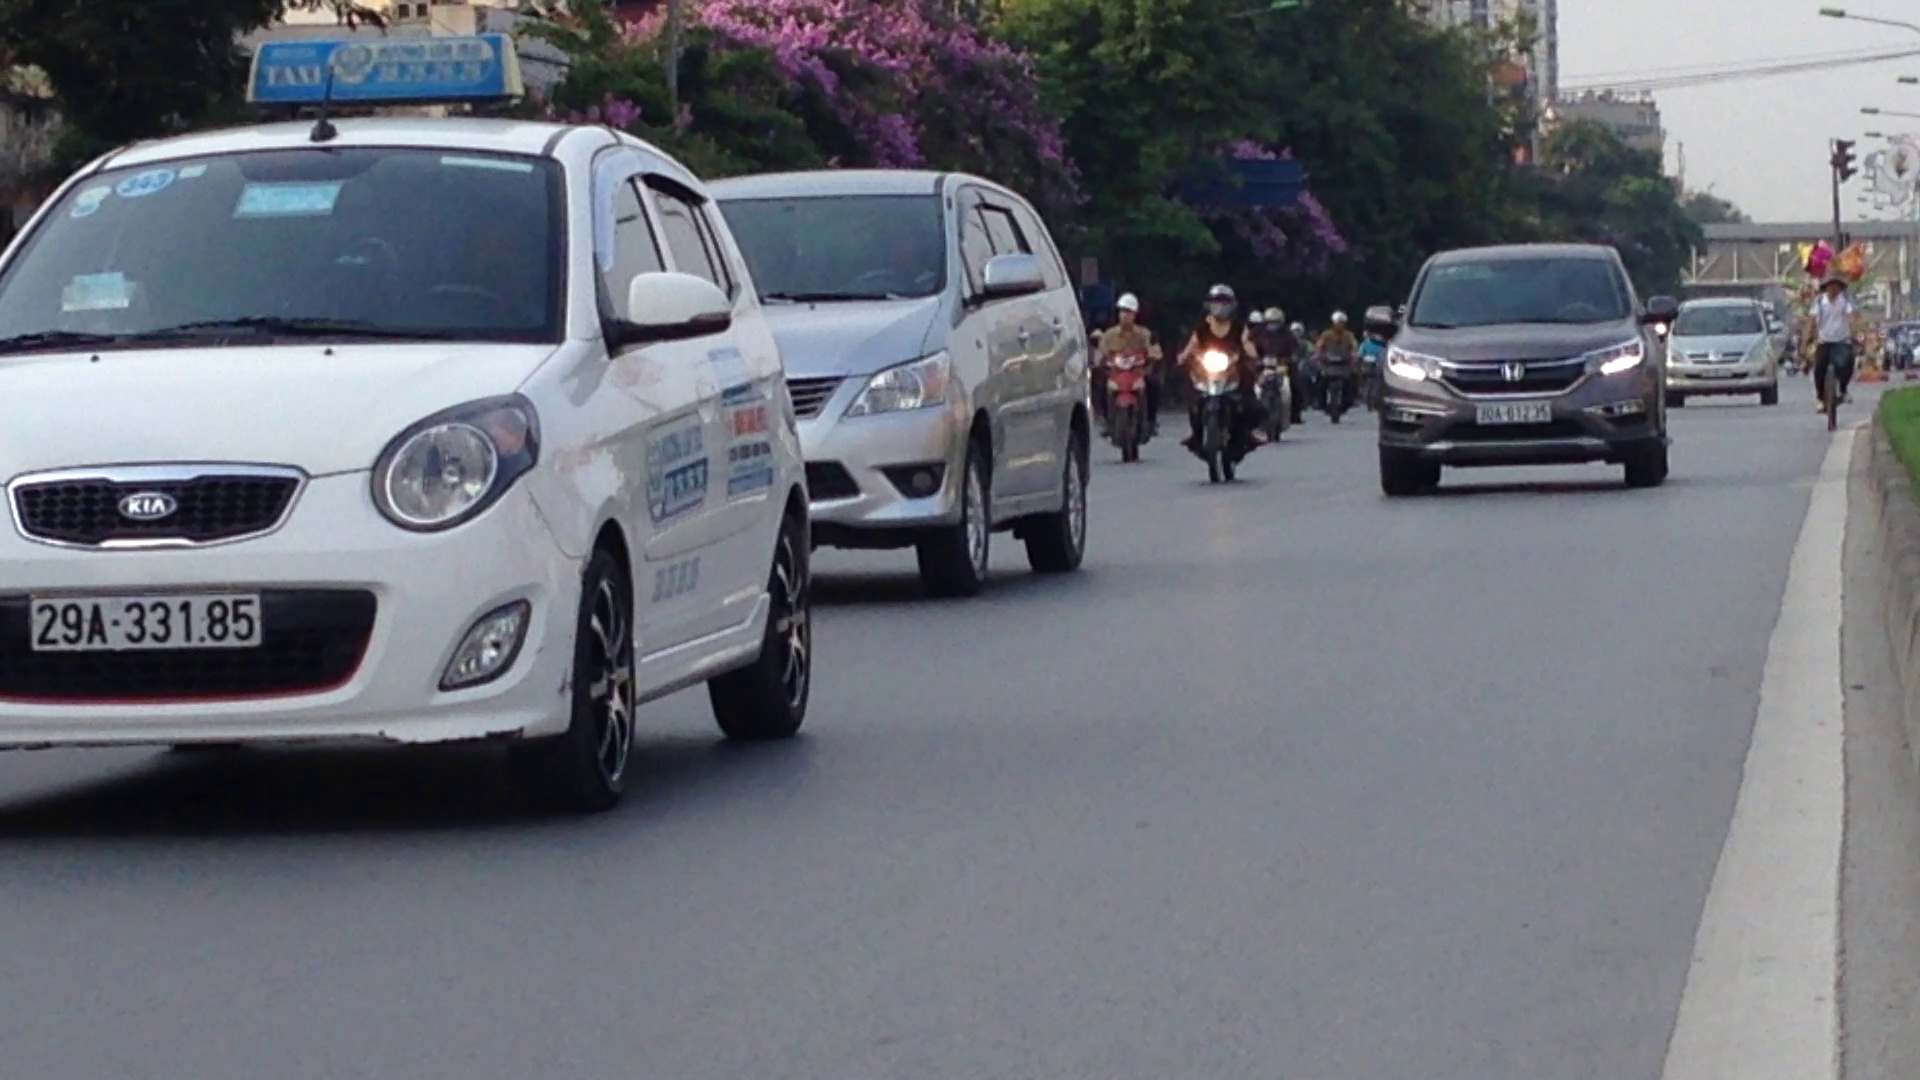person: (17, 591, 267, 653), (1473, 400, 1555, 425)
